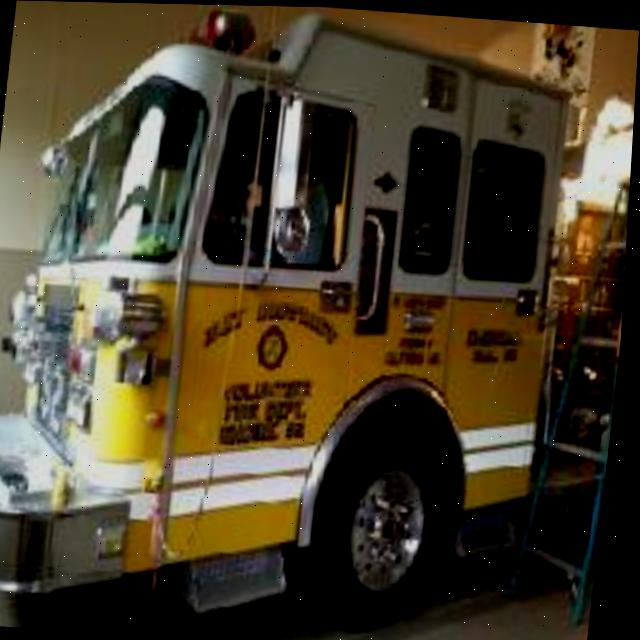emergency: (0, 8, 619, 633)
